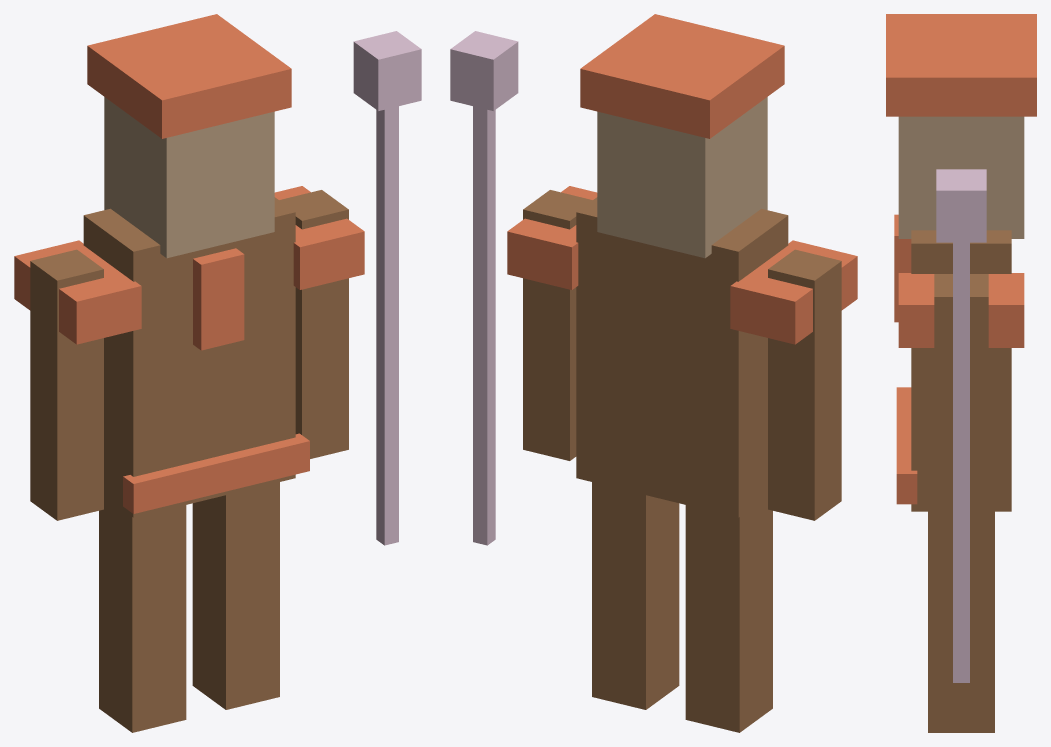
Rendered from 15_pax_chromabell_keeper_at_furnace.glb.
3 renders of one model, left to right at view 1: azimuth 30°, elevation 25°; view 2: azimuth 150°, elevation 25°; view 3: azimuth 270°, elevation 25°, orthographic.
Parts seen in each view (by area): view 1: Pax Chromabell, Keeper at Furnace; view 2: Pax Chromabell, Keeper at Furnace; view 3: Pax Chromabell, Keeper at Furnace.
Boxes of the visible parts, x1,y1,x2,y2 form: Pax Chromabell, Keeper at Furnace: (14,14,421,732); Pax Chromabell, Keeper at Furnace: (450,14,857,732); Pax Chromabell, Keeper at Furnace: (886,14,1036,732).
Size of the model in its own units: 0.9875 by 1.67 by 0.3502.
